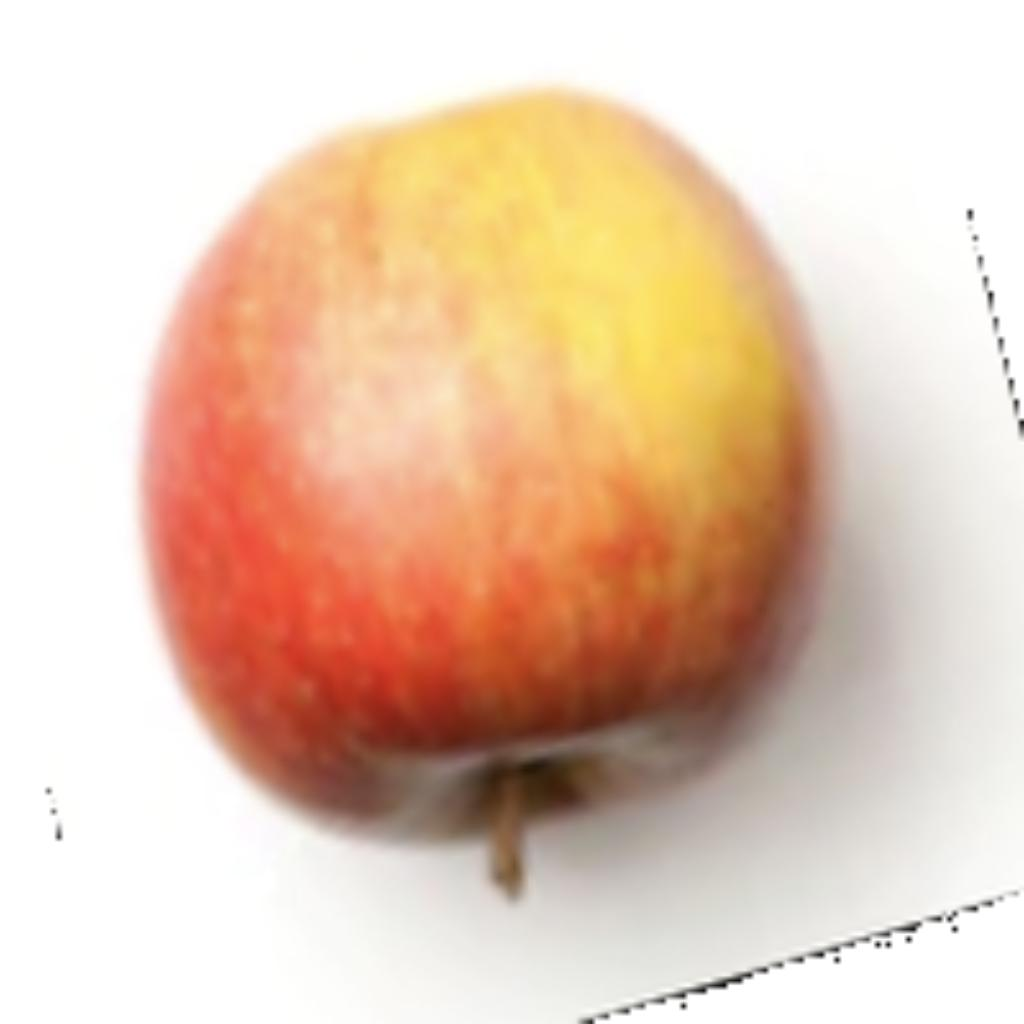apple: (123, 72, 940, 932)
